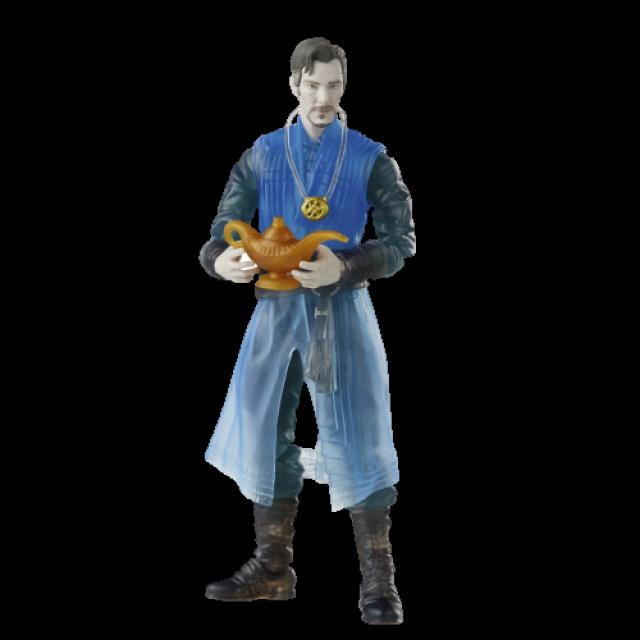doctor_strange: (240, 2, 413, 346)
